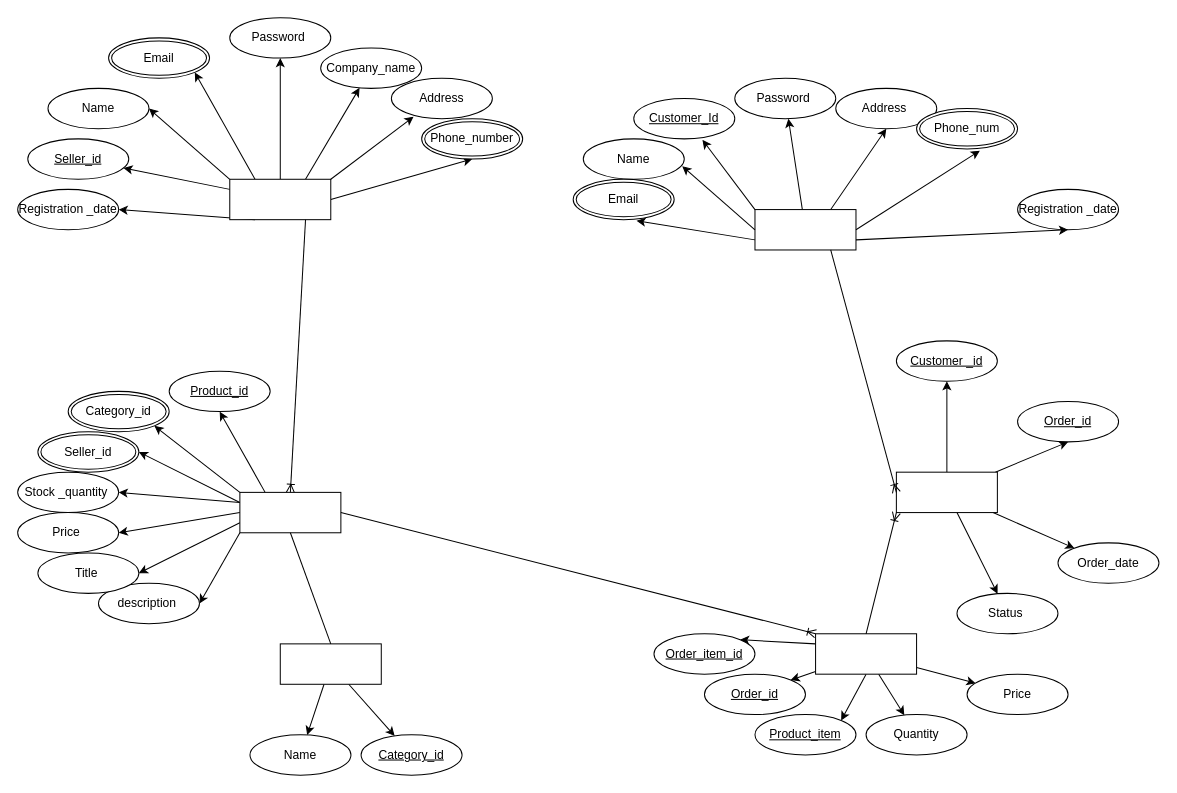
Some shapes in this 1177 by 793 pixel diagram are drawn without their labels. Here are the shapes that lost their labels. From the top down, the box of each, then its label:
(229, 178, 331, 220): SELLER
(754, 209, 856, 250): CUSTOMER
(239, 491, 341, 533): PRODUCT
(895, 471, 997, 513): ORDER
(279, 643, 381, 684): CATEGORY
(815, 633, 917, 674): ORDER_ITEM
